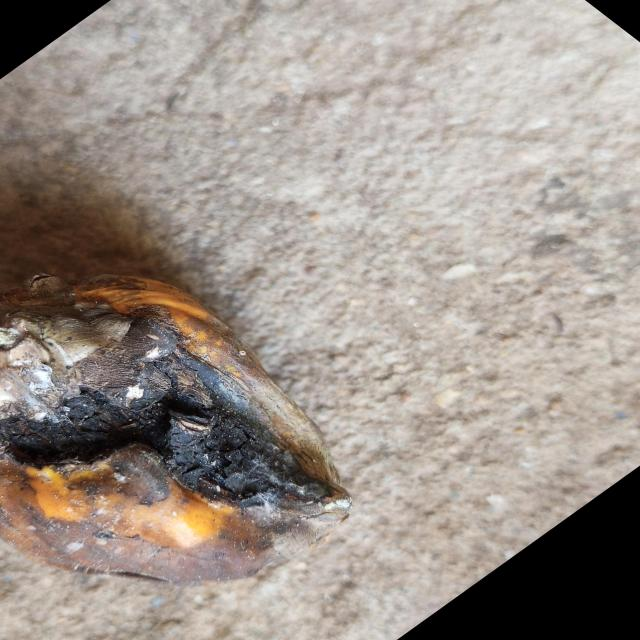damaged: (0, 280, 351, 587)
